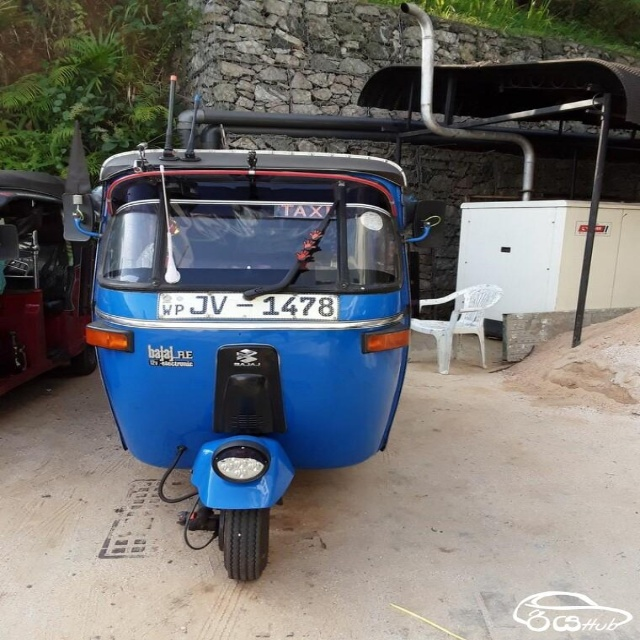Motorcycle: (62, 148, 445, 584)
